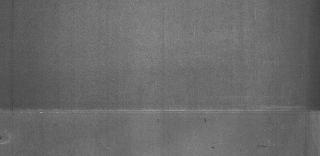welding line: (1, 105, 319, 120)
